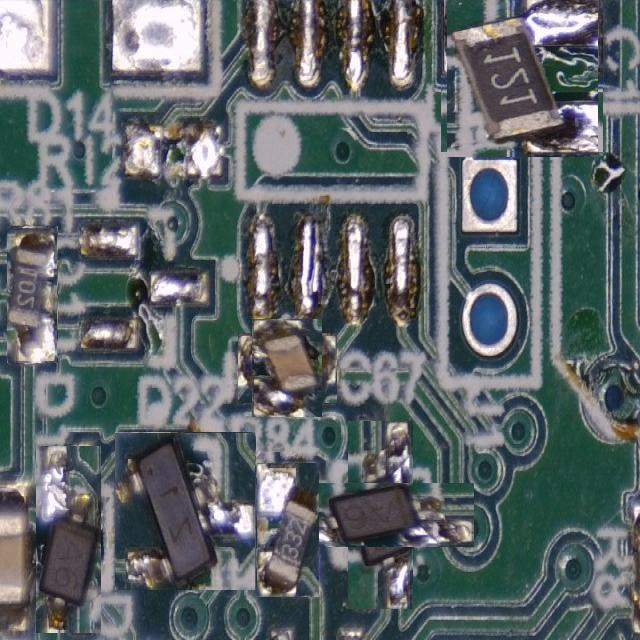Incorrect_installation: (446, 0, 598, 157), (116, 432, 254, 590), (36, 447, 101, 631), (287, 483, 473, 547), (257, 463, 319, 597), (253, 319, 321, 417), (8, 227, 56, 363)
